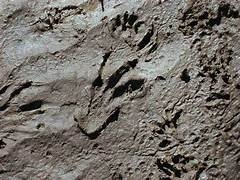fox: (141, 26, 193, 79), (82, 40, 133, 89), (164, 76, 205, 125)
